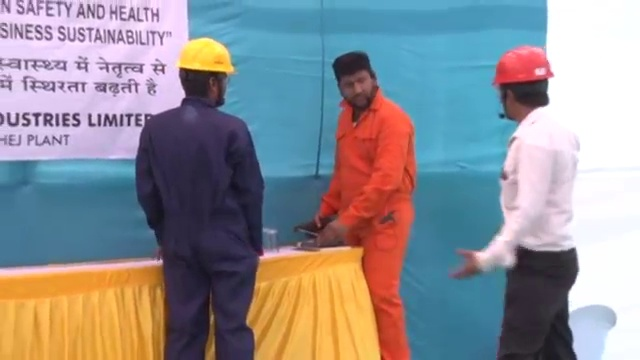helmet: (489, 45, 557, 86), (176, 36, 242, 76)
helmet_off: (332, 50, 381, 111)
helmet_on: (488, 44, 559, 124), (176, 35, 244, 109)
person: (134, 33, 266, 360), (450, 44, 583, 360), (314, 49, 419, 360)
